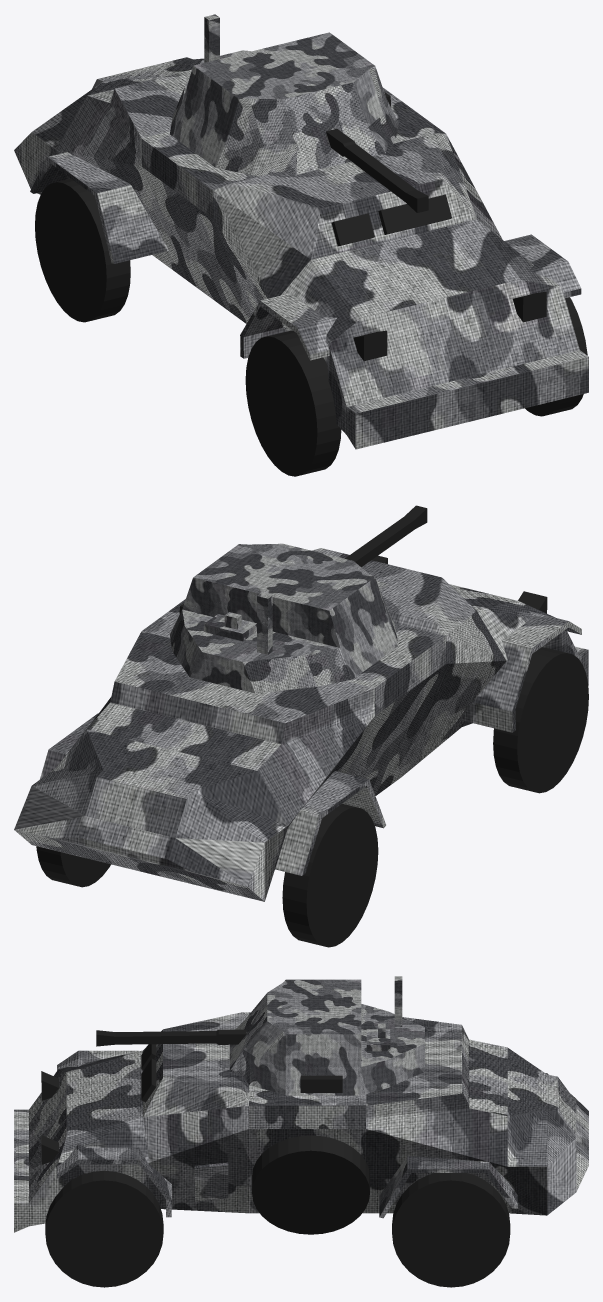
File: ss_car.fbx
3 renders of one model, top to bottom at view 1: azimuth 30°, elevation 25°; view 2: azimuth 150°, elevation 25°; view 3: azimuth 270°, elevation 25°, orthographic. The views are drawn at different scales.
Visible parts, largest first — view 1: Cube, Cube.006, Cylinder.002, Cylinder.003, Cylinder; view 2: Cube, Cube.006, Cylinder.002, Cylinder.003, Cylinder.001; view 3: Cube, Cube.006, Cylinder, Cylinder.001.
Boxes of the visible parts, box(x1,y1,x2,y2) form: Cube: box(14, 57, 588, 449); Cube.006: box(170, 14, 428, 212); Cylinder.002: box(245, 330, 341, 476); Cylinder.003: box(35, 178, 130, 322); Cylinder: box(525, 297, 587, 416); Cube: box(14, 548, 588, 901); Cube.006: box(170, 505, 427, 693); Cylinder.002: box(493, 647, 588, 793); Cylinder.003: box(282, 803, 378, 947); Cylinder.001: box(36, 846, 110, 887); Cube: box(14, 1012, 588, 1234); Cube.006: box(96, 976, 424, 1095); Cylinder: box(45, 1170, 163, 1287); Cylinder.001: box(392, 1173, 510, 1287).
Size of the model in its own units: 895 by 935 by 1997.
2 materials, 1 textured.
